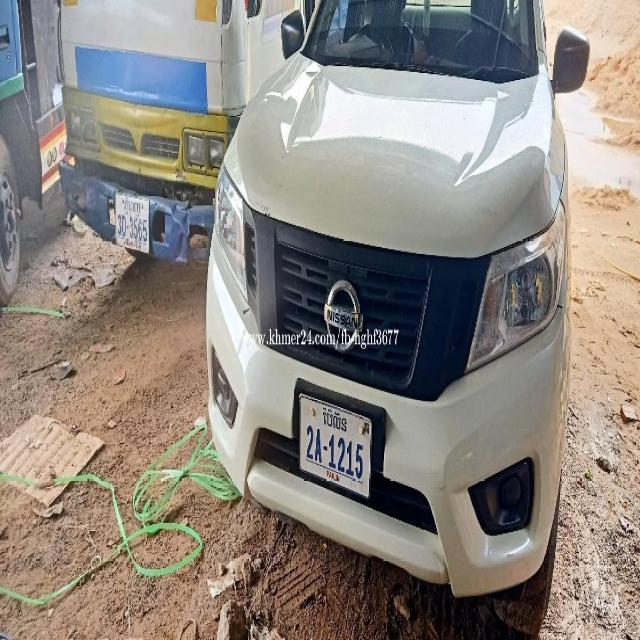Pailin: (322, 406, 346, 435)
Phnom_Penh: (124, 196, 140, 217)
